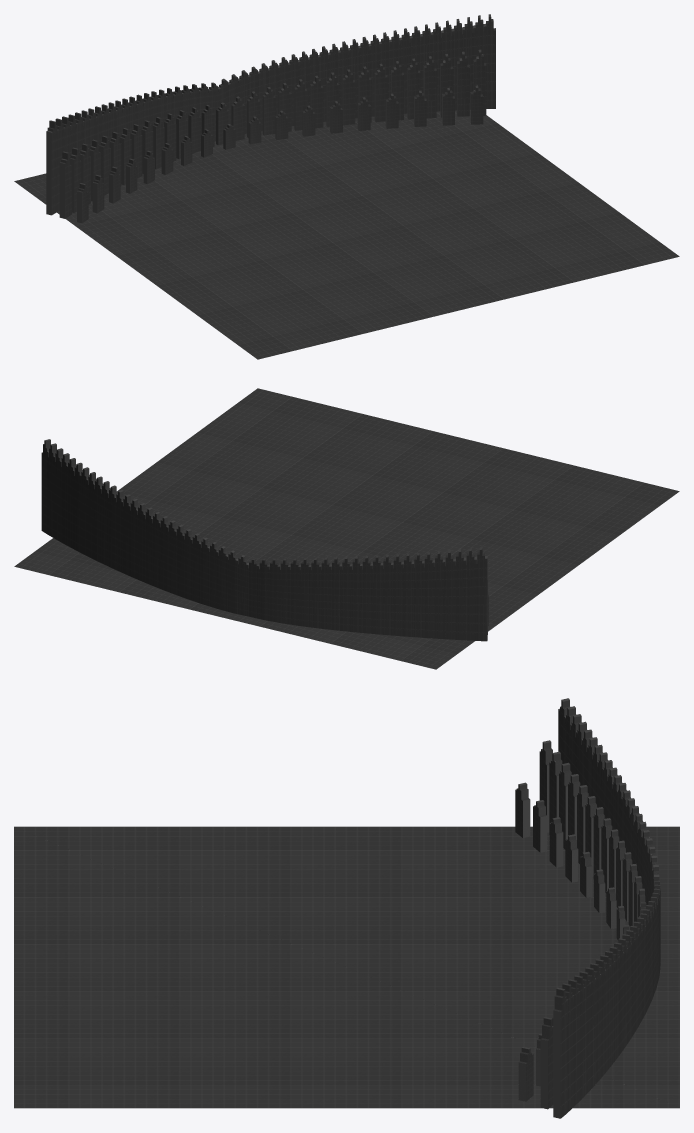
Rendered from TrainingPlane.glb.
3 views of the same model, one above another, from view 1: azimuth 30°, elevation 25°; view 2: azimuth 150°, elevation 25°; view 3: azimuth 270°, elevation 25° (orthographic). The views are drawn at different scales.
Parts seen in each view (by area): view 1: Plane; view 2: Plane; view 3: Plane.
Part boxes in pixels (x1,y1,x2,y2): Plane: (14,14,679,359); Plane: (14,388,679,669); Plane: (14,698,679,1118).
Size of the model in its own units: 127 by 25.03 by 120.
Materials: 1 (1 with a texture image).
